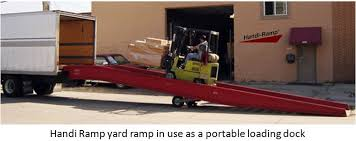Pallet Jack: (139, 22, 238, 86)
Yard Ramp: (62, 64, 352, 116)
